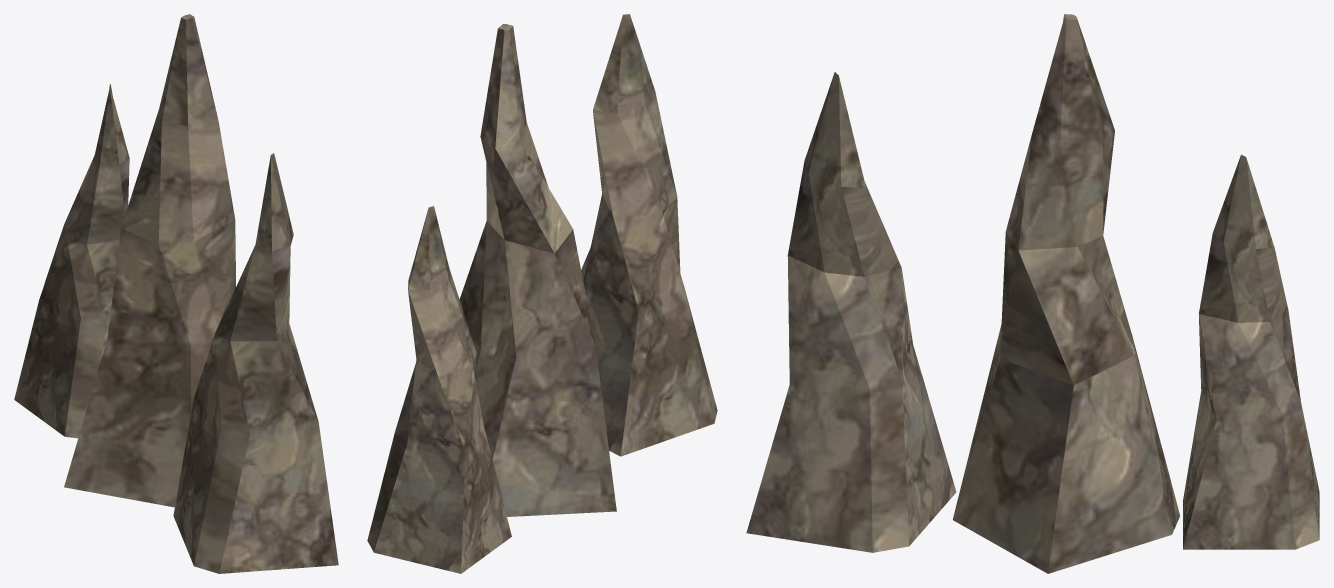
File: Stalagmite.fbx
3 renders of one model, left to right at view 1: azimuth 30°, elevation 25°; view 2: azimuth 150°, elevation 25°; view 3: azimuth 270°, elevation 25°, orthographic. The views are drawn at different scales.
Visible parts, largest first — view 1: Cube.001, Cube.002, Cube; view 2: Cube.001, Cube.002, Cube; view 3: Cube.001, Cube.002, Cube.
Part boxes in pixels (x1=…): Cube.001: x1=64, y1=14, x2=235, y2=507; Cube.002: x1=173, y1=153, x2=338, y2=573; Cube: x1=14, y1=84, x2=129, y2=438; Cube.001: x1=459, y1=24, x2=616, y2=516; Cube.002: x1=581, y1=14, x2=717, y2=456; Cube: x1=367, y1=206, x2=511, y2=573; Cube.001: x1=952, y1=14, x2=1179, y2=573; Cube.002: x1=746, y1=72, x2=956, y2=552; Cube: x1=1183, y1=154, x2=1319, y2=549.
Bounding box in the file's own units: 73.66 × 158 × 160.
Materials: 1 (1 with a texture image).
